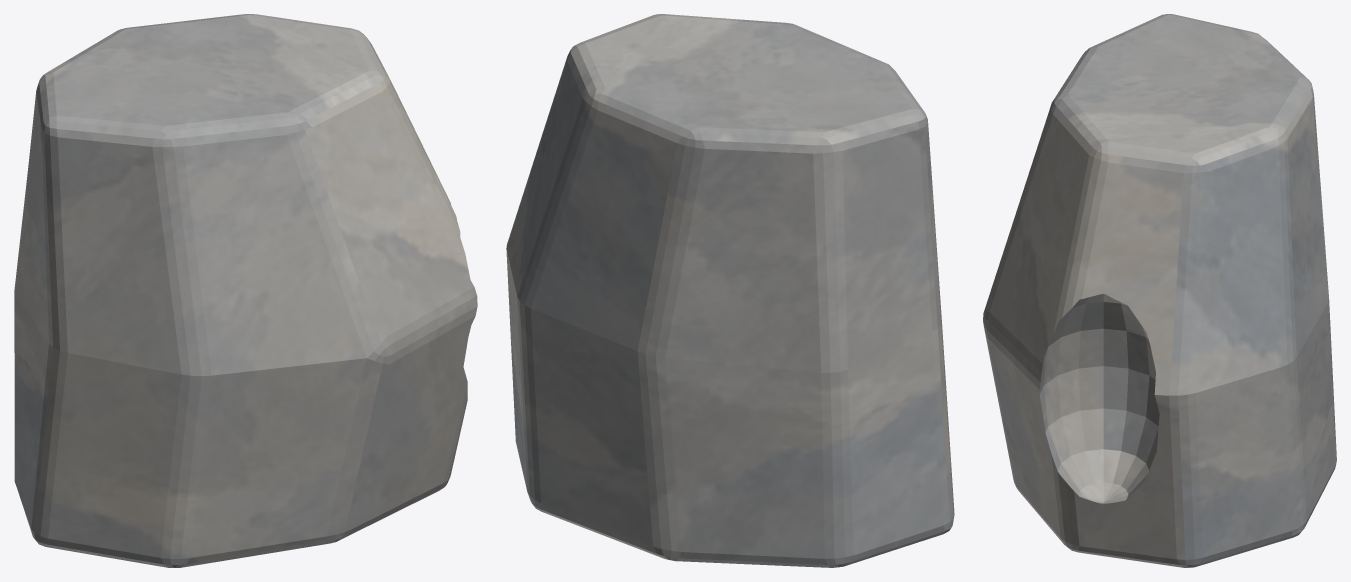
The model's file is source.glb.
3 renders of one model, left to right at view 1: azimuth 30°, elevation 25°; view 2: azimuth 150°, elevation 25°; view 3: azimuth 270°, elevation 25°, orthographic. The views are drawn at different scales.
Parts seen in each view (by area): view 1: CoastalRockSource; view 2: CoastalRockSource; view 3: CoastalRockSource.
Part boxes in pixels (<box>): CoastalRockSource: <box>14,14,477,567</box>; CoastalRockSource: <box>506,14,954,567</box>; CoastalRockSource: <box>983,14,1336,567</box>.
Bounding box in the file's own units: 2 × 1.9 × 1.57.
Materials: 1 (1 with a texture image).
